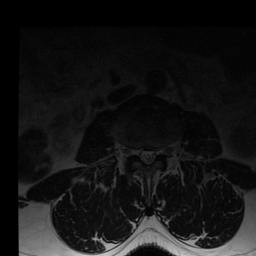CCS_normal: (145, 143, 151, 170)
LFS_normal: (158, 141, 165, 159)
LLS_normal: (151, 145, 158, 164)
RFS_stenosis: (131, 142, 138, 160)
RLS_normal: (138, 144, 145, 165)
